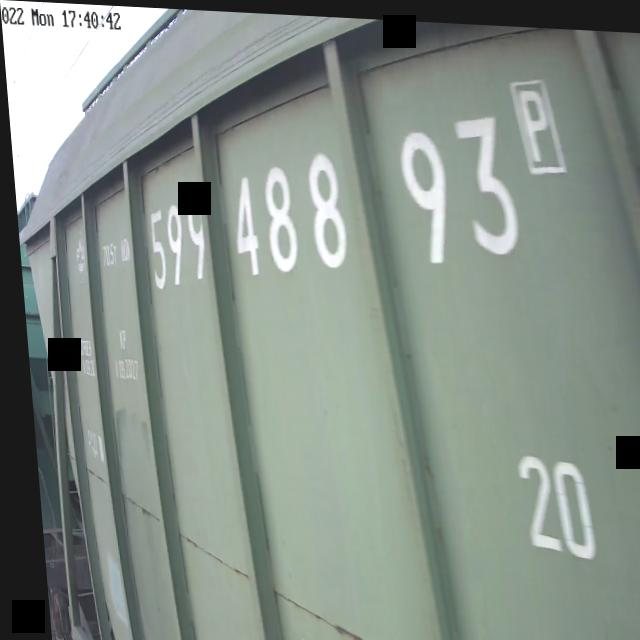hopper: (0, 0, 640, 640), (12, 184, 67, 617)
